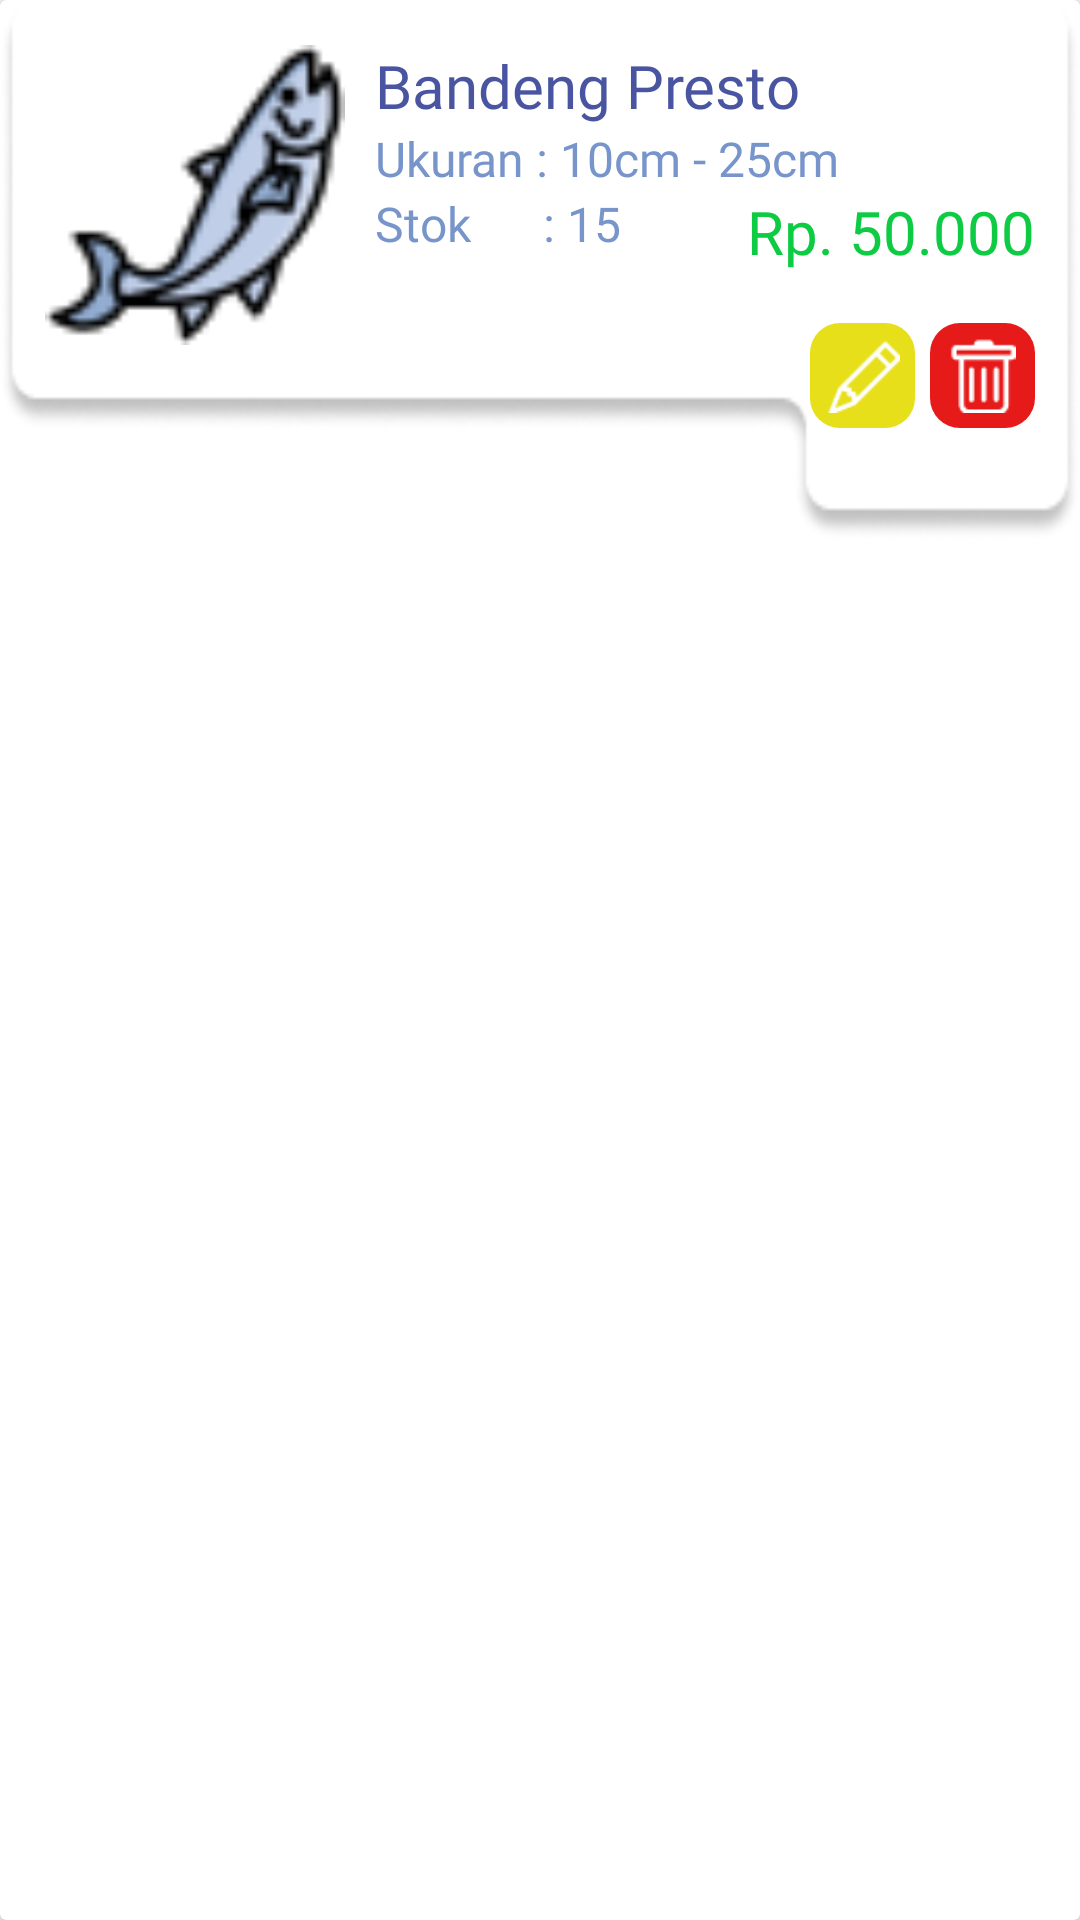

Where to tap for icons on this 1080 × 1920 app screen, as point (x, y):
delete: point (982, 375)
edit: point (862, 375)
ikan besar: point (195, 195)
